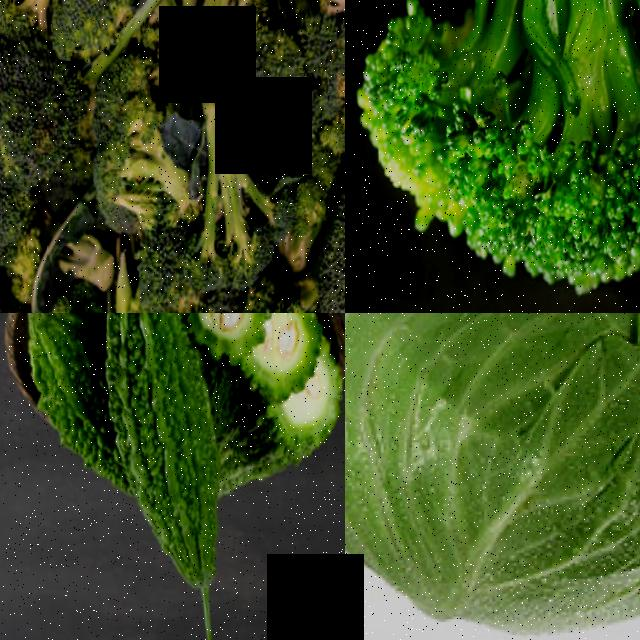bitter gourd: (123, 313, 217, 574), (14, 313, 101, 468), (227, 398, 327, 481), (267, 313, 324, 383), (199, 313, 262, 347)
broccoli: (345, 0, 640, 313), (192, 99, 272, 288), (0, 7, 59, 250), (93, 50, 167, 238), (155, 0, 258, 57), (39, 283, 128, 313), (236, 281, 311, 313)
cabbage: (345, 313, 640, 640)
